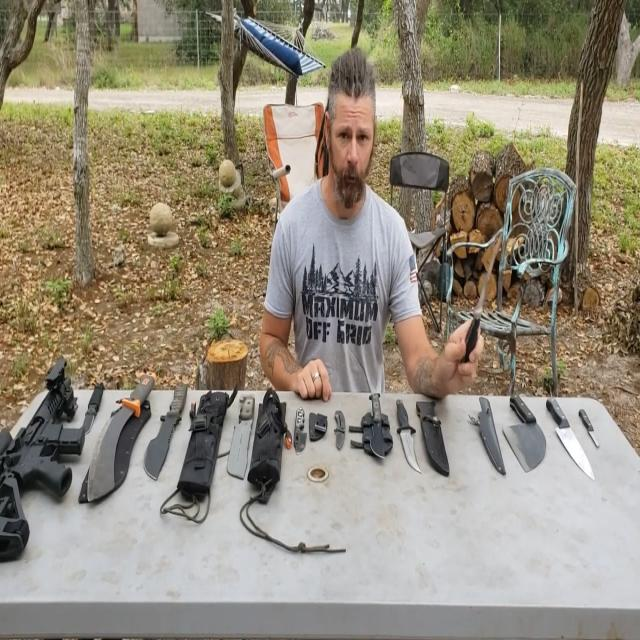knife: (76, 366, 155, 515), (452, 213, 505, 374), (138, 366, 198, 496), (542, 388, 602, 474), (223, 382, 270, 488), (392, 390, 422, 479), (323, 393, 352, 473), (77, 383, 116, 441), (364, 386, 390, 466), (572, 397, 603, 457), (288, 402, 312, 468)
long weapon: (0, 338, 95, 577)
